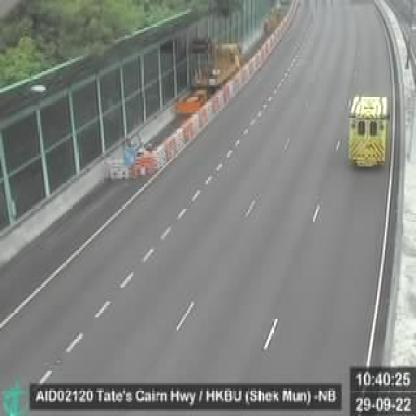Car: (339, 85, 394, 178)
